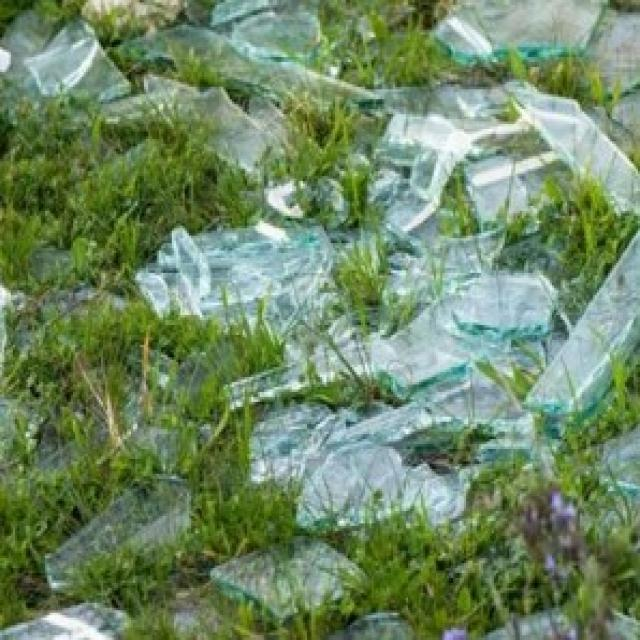electronic: (243, 395, 503, 531), (130, 210, 330, 324)
